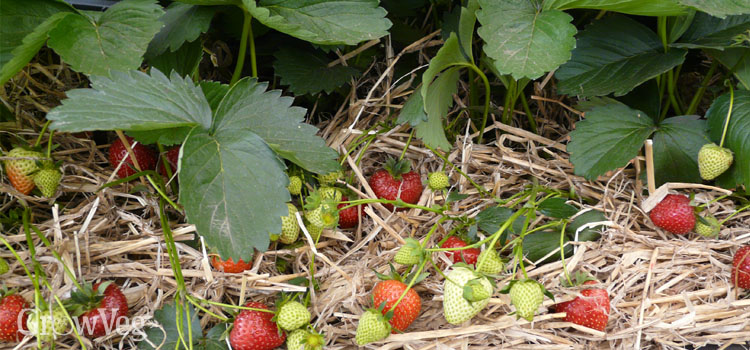ripe_strawberry: (76, 280, 132, 336), (554, 278, 611, 332), (228, 301, 289, 350), (371, 279, 424, 333), (110, 135, 161, 186), (369, 168, 423, 212), (649, 193, 697, 235), (1, 292, 31, 345), (439, 234, 480, 266), (337, 196, 368, 228), (209, 253, 254, 274), (730, 245, 750, 291)
unripe_strawberry: (443, 264, 494, 326), (5, 144, 52, 197), (29, 305, 71, 344), (508, 277, 546, 318), (697, 144, 736, 182), (356, 307, 393, 347), (306, 198, 340, 232), (277, 299, 313, 331), (34, 167, 64, 200), (279, 202, 302, 245), (394, 240, 425, 265), (476, 247, 503, 275), (463, 279, 491, 303), (695, 218, 720, 238), (316, 186, 348, 201), (428, 171, 451, 190), (288, 175, 303, 197)
